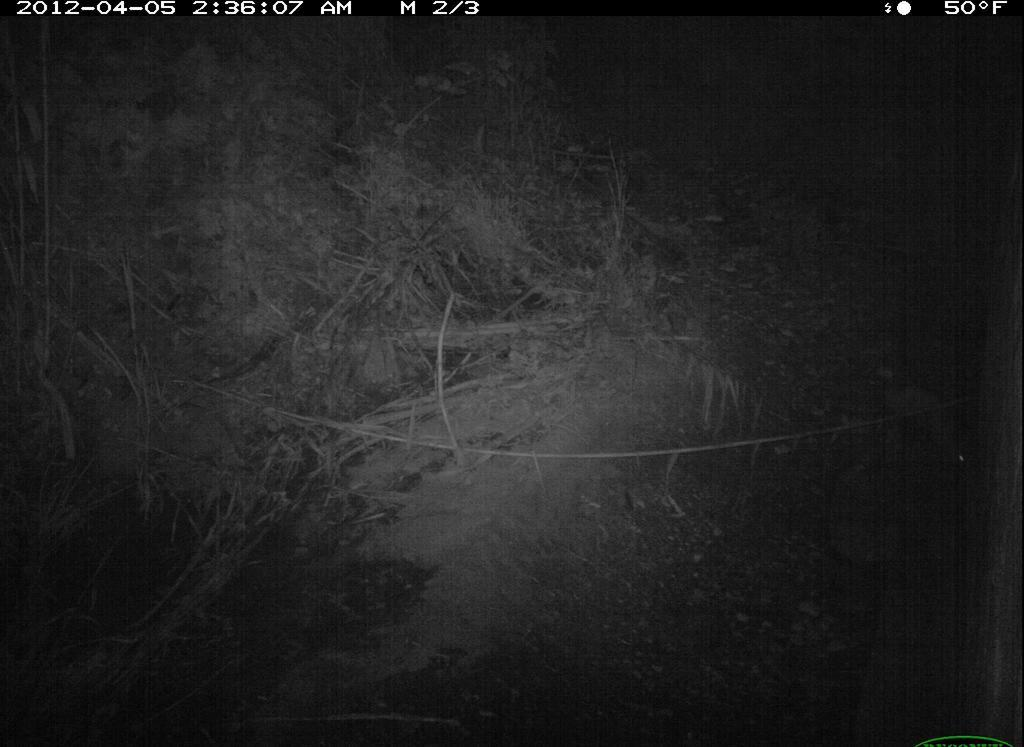opossum: (875, 377, 1008, 474)
